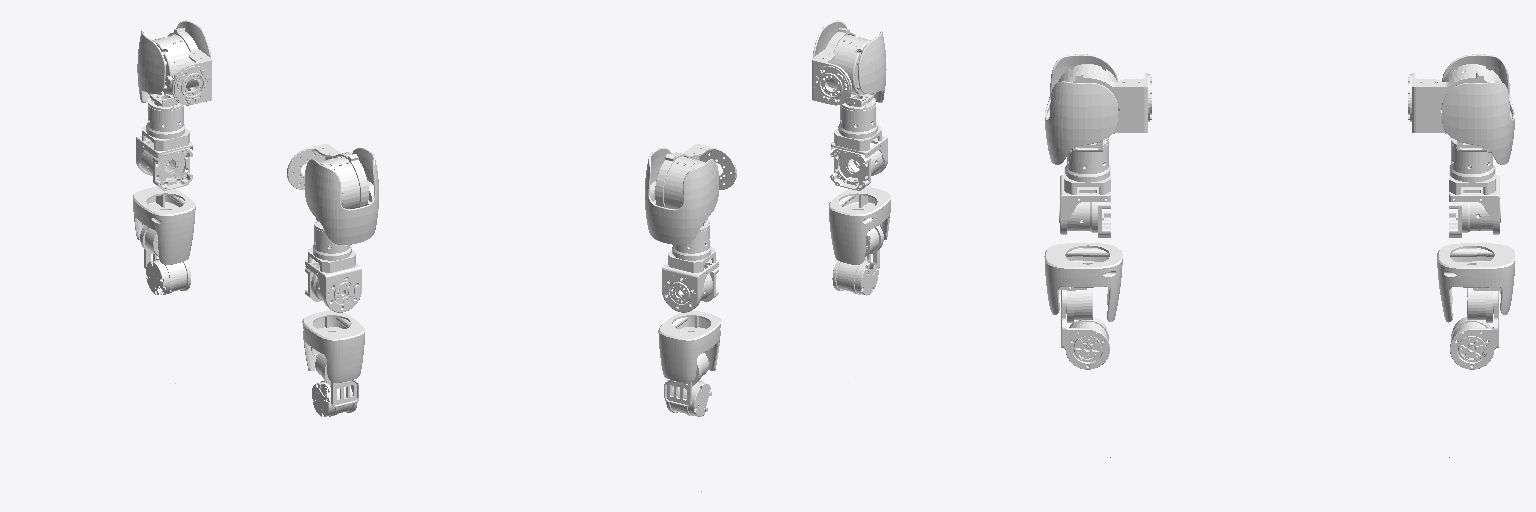
robot.urdf — biped_s40:
<?xml version="1.0" encoding="utf-8" ?>
<!-- This URDF was automatically created by SolidWorks to URDF Exporter! Originally created by [author] ([email redacted]) 
     Commit Version: 1.6.0-4-g7f85cfe  Build Version: 1.6.7995.38578
     For more information, please see http://wiki.ros.org/sw_urdf_exporter -->
<robot name="biped_s40">

    <link name="torso">
      <inertial>
          <origin xyz="0 0 0" rpy="0 0 0" />
          <mass value="0" />
          <inertia ixx="0" ixy="0" ixz="0" iyy="0" iyz="0" izz="0" />
      </inertial>
    </link>
    <joint name="torso" type="fixed">
      <parent link="torso" />
      <child link="base_link" />
      <origin xyz="0 0 0" rpy="0 0 0" />
    </joint>

    <link name="base_link">
        <inertial>
            <origin xyz="-0.0131642143292668 -0.00101855461920045 0.120968817067497" rpy="0 0 0" />
            <mass value="17.7538790248349" />
            <inertia ixx="0.109513413578877" ixy="-3.84263402967609E-06" ixz="0.002072229236261" iyy="0.0639718644540955" iyz="5.94596039793819E-06" izz="0.0796086142464887" />
        </inertial>
        <visual>
            <origin xyz="0 0 0" rpy="0 0 0" />
            <geometry>
                <mesh filename="package://biped_s40/meshes/torso.obj" />
            </geometry>
            <material name="">
                <color rgba="1 1 1 1" />
            </material>
        </visual>
        <collision>
            <origin xyz="0 0 0" rpy="0 0 0" />
            <geometry>
                <mesh filename="package://biped_s40/meshes/torso.obj" />
            </geometry>
        </collision>
    </link>

    <!-- 左手--> 
    <link name="zarm_l1_link">
        <inertial>
            <origin xyz="0.0146835191418715 -0.0166604103758634 -6.82857133369463E-05" rpy="0 0 0" />
            <mass value="0.165847319965906" />
            <inertia ixx="0.0002674432873971" ixy="-2.5654089149164E-05" ixz="-1.72966133127557E-07" iyy="0.000125796784291983" iyz="-1.66717296343014E-06" izz="0.000196186976742156" />
        </inertial>
        <visual>
            <origin xyz="0 0 0" rpy="0 0 0" />
            <geometry>
                <mesh filename="package://biped_s40/meshes/l_arm_pitch.obj" />
            </geometry>
            <material name="">
                <color rgba="1 1 1 1" />
            </material>
        </visual>
        <collision>
            <origin xyz="0 0 0" rpy="0 0 0" />
            <geometry>
                <mesh filename="package://biped_s40/meshes/l_arm_pitch.obj" />
            </geometry>
        </collision>
    </link>
    <joint name="zarm_l1_joint" type="revolute">
        <origin xyz="-0.0175475823124921 0.254700000000031 0.324500000000024" rpy="0 0 0" />
        <parent link="base_link" />
        <child link="zarm_l1_link" />
        <axis xyz="0 1 0" />
        <limit velocity="1" effort="20" lower="-3.14159"  upper="0.523599" /> 
    </joint>

    <link name="zarm_l2_link">
        <inertial>
            <origin xyz="0.0222872651779294 0.0156945544195443 -0.0202262244341467" rpy="0 0 0" />
            <mass value="0.14142658141305" />
            <inertia ixx="0.000160370067223078" ixy="6.30811840859276E-06" ixz="-1.13259246453472E-05" iyy="0.000262365778589952" iyz="3.14941259087025E-05" izz="0.000236014036281963" />
        </inertial>
        <visual>
            <origin xyz="0 0 0" rpy="0 0 0" />
            <geometry>
                <mesh filename="package://biped_s40/meshes/l_arm_roll.obj" />
            </geometry>
            <material name="">
                <color rgba="1 1 1 1" />
            </material>
        </visual>
        <collision>
            <origin xyz="0 0 0" rpy="0 0 0" />
            <geometry>
                <mesh filename="package://biped_s40/meshes/l_arm_roll.obj" />
            </geometry>
        </collision>
    </link>
    <joint name="zarm_l2_joint" type="revolute">
        <origin xyz="0 0 0" rpy="0 0 0" />
        <parent link="zarm_l1_link" />
        <child link="zarm_l2_link" />
        <axis xyz="1 0 0" />
        <limit velocity="1" effort="20" lower="-0.349066" upper="2.0944" /> 
    </joint>

    <link name="zarm_l3_link">
        <inertial>
            <origin xyz="6.16940440653045E-05 0.00525815062787316 -0.12882194485465" rpy="0 0 0" />
            <mass value="0.147794102819133" />
            <inertia ixx="7.00575957554695E-05" ixy="-6.81658230071221E-10" ixz="2.6942707856767E-10" iyy="8.53612265336774E-05" iyz="6.95899873075697E-06" izz="8.82223899453282E-05" />
        </inertial>
        <visual>
            <origin xyz="0 0 0" rpy="0 0 0" />
            <geometry>
                <mesh filename="package://biped_s40/meshes/l_arm_yaw.obj" />
            </geometry>
            <material name="">
                <color rgba="1 1 1 1" />
            </material>
        </visual>
        <collision>
            <origin xyz="0 0 0" rpy="0 0 0" />
            <geometry>
                <mesh filename="package://biped_s40/meshes/l_arm_yaw.obj" />
            </geometry>
        </collision>
    </link>
    <joint name="zarm_l3_joint" type="revolute">
        <origin xyz="0 0 0" rpy="0 0 0" />
        <parent link="zarm_l2_link" />
        <child link="zarm_l3_link" />
        <axis xyz="0 0 1" />
        <limit velocity="1" effort="20" lower="-1.5708" upper="1.5708" />
    </joint>

    <link name="zarm_l4_link">
        <inertial>
            <origin xyz="-1.42819297162602E-05 0.00938313949963104 -0.0522687552263907" rpy="0 0 0" />
            <mass value="0.170164726102014" />
            <inertia ixx="9.55808447606964E-05" ixy="-4.53863489155473E-08" ixz="5.39342118114986E-08" iyy="0.000126326373178401" iyz="-9.58160032696802E-06" izz="0.000121032474884244" />
        </inertial>
        <visual>
            <origin xyz="0 0 0" rpy="0 0 0" />
            <geometry>
                <mesh filename="package://biped_s40/meshes/l_forearm_pitch.obj" />
            </geometry>
            <material name="">
                <color rgba="1 1 1 1" />
            </material>
        </visual>
        <collision>
            <origin xyz="0 0 0" rpy="0 0 0" />
            <geometry>
                <mesh filename="package://biped_s40/meshes/l_forearm_pitch.obj" />
            </geometry>
        </collision>
    </link>
    <joint name="zarm_l4_joint" type="revolute">
        <origin xyz="0 0 -0.163599999999996" rpy="0 0 0" />
        <parent link="zarm_l3_link" />
        <child link="zarm_l4_link" />
        <axis xyz="0 1 0" />
        <limit velocity="1" effort="20" lower="-1.5708" upper="0" /> 
    </joint>

    <link name="zarm_l5_link">
        <inertial>
            <origin xyz="0.000113131262875685 0.00969728110559553 0.0227960708688583" rpy="0 0 0" />
            <mass value="0.157336277379834" />
            <inertia ixx="7.64923971357921E-05" ixy="8.51207618055666E-09" ixz="-1.40676645868301E-08" iyy="0.000122231121933325" iyz="1.11226992393513E-06" izz="8.44934959384744E-05" />
        </inertial>
        <visual>
            <origin xyz="0 0 0" rpy="0 0 0" />
            <geometry>
                <mesh filename="package://biped_s40/meshes/l_hand_yaw.obj" />
            </geometry>
            <material name="">
                <color rgba="1 1 1 1" />
            </material>
        </visual>
        <collision>
            <origin xyz="0 0 0" rpy="0 0 0" />
            <geometry>
                <mesh filename="package://biped_s40/meshes/l_hand_yaw.obj" />
            </geometry>
        </collision>
    </link>
    <joint name="zarm_l5_joint" type="revolute">
        <origin xyz="0 0 -0.132050000118071" rpy="0 0 0" />
        <parent link="zarm_l4_link" />
        <child link="zarm_l5_link" />
        <limit velocity="1" effort="20" lower="-1.5708" upper="1.5708" />
        <axis xyz="0 0 1" />
    </joint>

    <link name="zarm_l6_link">
        <inertial>
            <origin xyz="0.00810609772930763 0.00490163171050539 -0.0527751110917489" rpy="0 0 0" />
            <mass value="0.0853891779246004" />
            <inertia ixx="4.77321490368476E-05" ixy="3.05261917457108E-06" ixz="4.77827164947653E-06" iyy="3.43814769749137E-05" iyz="-4.59311499587152E-06" izz="2.49955336560133E-05" />
        </inertial>
        <visual>
            <origin xyz="0 0 0" rpy="0 0 0" />
            <geometry>
                <mesh filename="package://biped_s40/meshes/l_hand_pitch.obj" />
            </geometry>
            <material name="">
                <color rgba="1 1 1 1" />
            </material>
        </visual>
        <collision>
            <origin xyz="0 0 0" rpy="0 0 0" />
            <geometry>
                <mesh filename="package://biped_s40/meshes/l_hand_pitch.obj" />
            </geometry>
        </collision>
    </link>
    <joint name="zarm_l6_joint" type="revolute">
        <origin xyz="0 0 0" rpy="0 0 0" />
        <parent link="zarm_l5_link" />
        <child link="zarm_l6_link" />
        <axis xyz="0 1 0" />
        <limit velocity="1" effort="20" lower="-1.5708" upper="1.5708" /> 
    </joint>

    <link name="zarm_l7_link">
        <inertial>
            <origin xyz="0.00396050555698803 0.00946265387749012 -0.066602176591173" rpy="0 0 0" />
            <mass value="0.151352919071109" />
            <inertia ixx="9.13246737942629E-05" ixy="3.25649345932988E-07" ixz="-4.78728976781085E-06" iyy="0.000139866613946359" iyz="1.1925397914412E-05" izz="0.000125082116428502" />
        </inertial>
        <visual>
            <origin xyz="0 0 0" rpy="0 0 0" />
            <geometry>
                <mesh filename="package://biped_s40/meshes/new_l_hand_roll.obj" />
            </geometry>
            <material name="">
                <color rgba="1 1 1 1" />
            </material>
        </visual>
        <collision>
            <origin xyz="0 0 0" rpy="0 0 0" />
            <geometry>
                <mesh filename="package://biped_s40/meshes/new_l_hand_roll.obj" />
            </geometry>
        </collision>
    </link>
    <joint name="zarm_l7_joint" type="revolute">
        <origin xyz="0 0 -0.058999997180792" rpy="0 0 0" />
        <parent link="zarm_l6_link" />
        <child link="zarm_l7_link" />
        <axis xyz="1 0 0" />
        <limit velocity="1" effort="20" lower="-1.5708" upper="1.5708" />
    </joint>

    <link name="zarm_l7_end_effector">
        <visual>
            <origin xyz="0 0 0" rpy="0 0 0" />
            <geometry>
                <sphere radius="0.001"/>
            </geometry>
            <material name="">
                <color rgba="1 1 1 1" />
            </material>
        </visual>
    </link>
    <joint name="zarm_l7_joint_end_effector" type="fixed">
        <origin xyz="0.00 -0.03 -0.17" rpy="0 0 0" />
        <parent link="zarm_l7_link" />
        <child link="zarm_l7_end_effector" />
    </joint>
    
    <!-- 右手--> 
    <link name="zarm_r1_link">
        <inertial>
            <origin xyz="0.0146743511434554 0.016829800822405 -8.16711977455475E-05" rpy="0 0 0" />
            <mass value="0.165729466195453" />
            <inertia ixx="0.000267364314112701" ixy="2.58822573731612E-05" ixz="-1.74450019197639E-07" iyy="0.000125724274127356" iyz="1.71810516637517E-06" izz="0.000196179895851995" />
        </inertial>
        <visual>
            <origin xyz="0 0 0" rpy="0 0 0" />
            <geometry>
                <mesh filename="package://biped_s40/meshes/r_arm_pitch.obj" />
            </geometry>
            <material name="">
                <color rgba="1 1 1 1" />
            </material>
        </visual>
        <collision>
            <origin xyz="0 0 0" rpy="0 0 0" />
            <geometry>
                <mesh filename="package://biped_s40/meshes/r_arm_pitch.obj" />
            </geometry>
        </collision>
    </link>
    <joint name="zarm_r1_joint" type="revolute">
        <origin xyz="-0.0175475823119764 -0.254700000000003 0.324500000000024" rpy="0 0 0" />
        <parent link="base_link" />
        <child link="zarm_r1_link" />
        <axis xyz="0 1 0" />
        <limit velocity="1" effort="20" lower="-3.14159" upper="0.523599" /> 
    </joint>

    <link name="zarm_r2_link">
        <inertial>
            <origin xyz="0.0223009070371899 -0.0156950170222252 -0.0202307747728591" rpy="0 0 0" />
            <mass value="0.141493827146865" />
            <inertia ixx="0.000160588534065391" ixy="-6.25733640993197E-06" ixz="-1.13236198591127E-05" iyy="0.000262566981459999" iyz="-3.1493041488675E-05" izz="0.000236151535090871" />
        </inertial>
        <visual>
            <origin xyz="0 0 0" rpy="0 0 0" />
            <geometry>
                <mesh filename="package://biped_s40/meshes/r_arm_roll.obj" />
            </geometry>
            <material name="">
                <color rgba="1 1 1 1" />
            </material>
        </visual>
        <collision>
            <origin xyz="0 0 0" rpy="0 0 0" />
            <geometry>
                <mesh filename="package://biped_s40/meshes/r_arm_roll.obj" />
            </geometry>
        </collision>
    </link>
    <joint name="zarm_r2_joint" type="revolute">
        <origin xyz="0 0 0" rpy="0 0 0" />
        <parent link="zarm_r1_link" />
        <child link="zarm_r2_link" />
        <axis xyz="1 0 0" />
        <limit velocity="1" effort="20" lower="-2.0944" upper="0.349066" />
    </joint>

    <link name="zarm_r3_link">
        <inertial>
            <origin xyz="-4.82749435399069E-05 -0.00525815062783946 -0.128821944854617" rpy="0 0 0" />
            <mass value="0.147794102819133" />
            <inertia ixx="7.005759575547E-05" ixy="-6.81658260959138E-10" ixz="-2.69427064536621E-10" iyy="8.53612265336777E-05" iyz="-6.95899873075701E-06" izz="8.82223899453284E-05" />
        </inertial>
        <visual>
            <origin xyz="0 0 0" rpy="0 0 0" />
            <geometry>
                <mesh filename="package://biped_s40/meshes/r_arm_yaw.obj" />
            </geometry>
            <material name="">
                <color rgba="1 1 1 1" />
            </material>
        </visual>
        <collision>
            <origin xyz="0 0 0" rpy="0 0 0" />
            <geometry>
                <mesh filename="package://biped_s40/meshes/r_arm_yaw.obj" />
            </geometry>
        </collision>
    </link>
    <joint name="zarm_r3_joint" type="revolute">
        <origin xyz="0 0 0" rpy="0 0 0" />
        <parent link="zarm_r2_link" />
        <child link="zarm_r3_link" />
        <axis xyz="0 0 1" />
        <limit velocity="1" effort="20" lower="-1.5708" upper="1.5708" /> 
    </joint>

    <link name="zarm_r4_link">
        <inertial>
            <origin xyz="-0.000127232990745296 -0.00951602649232614 -0.052268755226349" rpy="0 0 0" />
            <mass value="0.17016472610201" />
            <inertia ixx="9.55808447606902E-05" ixy="-4.53863489771543E-08" ixz="-5.41060583435907E-08" iyy="0.000126326373178393" iyz="9.40982665987161E-06" izz="0.000121032474884238" />
        </inertial>
        <visual>
            <origin xyz="0 0 0" rpy="0 0 0" />
            <geometry>
                <mesh filename="package://biped_s40/meshes/r_forearm_pitch.obj" />
            </geometry>
            <material name="">
                <color rgba="1 1 1 1" />
            </material>
        </visual>
        <collision>
            <origin xyz="0 0 0" rpy="0 0 0" />
            <geometry>
                <mesh filename="package://biped_s40/meshes/r_forearm_pitch.obj" />
            </geometry>
        </collision>
    </link>
    <joint name="zarm_r4_joint" type="revolute">
        <origin xyz="0 0 -0.1636" rpy="0 0 0" />
        <parent link="zarm_r3_link" />
        <child link="zarm_r4_link" />
        <axis xyz="0 1 0" />
        <limit velocity="1" effort="20" lower="-1.5708" upper="0" /> 
    </joint>

    <link name="zarm_r5_link">
        <inertial>
            <origin xyz="-0.000112955483967687 -0.00974449526683929 0.0227958280839014" rpy="0 0 0" />
            <mass value="0.157334748658065" />
            <inertia ixx="7.64922331363792E-05" ixy="8.75195261100849E-09" ixz="1.38703019538351E-08" iyy="0.000122230542206117" iyz="-1.1123944412365E-06" izz="8.44929064837534E-05" />
        </inertial>
        <visual>
            <origin xyz="0 0 0" rpy="0 0 0" />
            <geometry>
                <mesh filename="package://biped_s40/meshes/r_hand_yaw.obj" />
            </geometry>
            <material name="">
                <color rgba="1 1 1 1" />
            </material>
        </visual>
        <collision>
            <origin xyz="0 0 0" rpy="0 0 0" />
            <geometry>
                <mesh filename="package://biped_s40/meshes/r_hand_yaw.obj" />
            </geometry>
        </collision>
    </link>
    <joint name="zarm_r5_joint" type="revolute">
        <origin xyz="0 0 -0.132050000118069" rpy="0 0 0" />
        <parent link="zarm_r4_link" />
        <child link="zarm_r5_link" />
        <limit velocity="1" effort="20" lower="-1.5708" upper="1.5708" />
        <axis xyz="0 0 1" />
    </joint>

    <link name="zarm_r6_link">
        <inertial>
            <origin xyz="0.00735986990228201 -0.00475238307648407 -0.0529411193942666" rpy="0 0 0" />
            <mass value="0.0853891534309893" />
            <inertia ixx="4.77321358097823E-05" ixy="-2.99709432812987E-06" ixz="4.71488437974189E-06" iyy="3.42470226388499E-05" iyz="4.61094199971348E-06" izz="2.51299600072389E-05" />
        </inertial>
        <visual>
            <origin xyz="0 0 0" rpy="0 0 0" />
            <geometry>
                <mesh filename="package://biped_s40/meshes/r_hand_pitch.obj" />
            </geometry>
            <material name="">
                <color rgba="1 1 1 1" />
            </material>
        </visual>
        <collision>
            <origin xyz="0 0 0" rpy="0 0 0" />
            <geometry>
                <mesh filename="package://biped_s40/meshes/r_hand_pitch.obj" />
            </geometry>
        </collision>
    </link>
    <joint name="zarm_r6_joint" type="revolute">
        <origin xyz="0 0 0" rpy="0 0 0" />
        <parent link="zarm_r5_link" />
        <child link="zarm_r6_link" />
        <axis xyz="0 1 0" />
        <limit velocity="1" effort="20" lower="-1.5708" upper="1.5708" />
    </joint>

    <link name="zarm_r7_link">
        <inertial>
            <origin xyz="0.00300067727381764 -0.00948299721849261 -0.0665274119439575" rpy="0 0 0" />
            <mass value="0.151513451672293" />
            <inertia ixx="9.14013694279149E-05" ixy="-3.00635383669835E-07" ixz="-4.88449841632957E-06" iyy="0.000140002484811824" iyz="-1.18898278478315E-05" izz="0.000125153253041102" />
        </inertial>
        <visual>
            <origin xyz="0 0 0" rpy="0 0 0" />
            <geometry>
                <mesh filename="package://biped_s40/meshes/new_r_hand_roll.obj" />
            </geometry>
            <material name="">
                <color rgba="1 1 1 1" />
            </material>
        </visual>
        <collision>
            <origin xyz="0 0 0" rpy="0 0 0" />
            <geometry>
                <mesh filename="package://biped_s40/meshes/new_r_hand_roll.obj" />
            </geometry>
        </collision>
    </link>
    <joint name="zarm_r7_joint" type="revolute">
        <origin xyz="0 0 -0.0590000000076598" rpy="0 0 0" />
        <parent link="zarm_r6_link" />
        <child link="zarm_r7_link" />
        <axis xyz="1 0 0" />
        <limit velocity="1" effort="20" lower="-1.5708" upper="1.5708" />
    </joint>

    <link name="zarm_r7_end_effector">
        <visual>
            <origin xyz="0 0 0" rpy="0 0 0" />
            <geometry>
                <sphere radius="0.001"/>
            </geometry>
            <material name="">
                <color rgba="1 1 1 1" />
            </material>
        </visual>
    </link>
    <joint name="zarm_r7_joint_end_effector" type="fixed">
        <origin xyz="0.00 0.03 -0.17" rpy="0 0 0" />
        <parent link="zarm_r7_link" />
        <child link="zarm_r7_end_effector" />
    </joint>

</robot>

--- Facts derived from the render (not from the file) ---
The picture shows the robot from 3 angles, left to right: view 1: azimuth 30°, elevation 25°; view 2: azimuth 150°, elevation 25°; view 3: azimuth 270°, elevation 25°; orthographic projection.
Robot: biped_s40 — 18 links, 17 joints (14 revolute, 3 fixed); root link torso; default pose: every joint at zero.
Visible links, largest first — view 1: zarm_r2_link, zarm_l5_link, zarm_l3_link, zarm_r5_link, zarm_r3_link, zarm_l1_link, zarm_r1_link, zarm_l2_link, zarm_r6_link, zarm_l6_link; view 2: zarm_l2_link, zarm_r5_link, zarm_r3_link, zarm_l5_link, zarm_l3_link, zarm_r1_link, zarm_l1_link, zarm_r2_link, zarm_r6_link, zarm_l6_link; view 3: zarm_r2_link, zarm_l2_link, zarm_l5_link, zarm_r5_link, zarm_l3_link, zarm_r3_link, zarm_l1_link, zarm_r1_link, zarm_r6_link, zarm_l6_link.
Link boxes in pixels (x1,y1,x2,y2): zarm_r2_link: [304, 148, 378, 244]; zarm_l5_link: [133, 187, 195, 264]; zarm_l3_link: [136, 98, 192, 190]; zarm_r5_link: [302, 311, 364, 384]; zarm_r3_link: [305, 220, 361, 312]; zarm_l1_link: [152, 28, 211, 105]; zarm_r1_link: [287, 144, 368, 208]; zarm_l2_link: [137, 20, 210, 106]; zarm_r6_link: [312, 380, 358, 416]; zarm_l6_link: [144, 249, 190, 294]; zarm_l2_link: [645, 148, 718, 244]; zarm_r5_link: [829, 187, 890, 264]; zarm_r3_link: [830, 98, 887, 190]; zarm_l5_link: [658, 311, 720, 385]; zarm_l3_link: [662, 220, 718, 312]; zarm_r1_link: [812, 28, 871, 105]; zarm_l1_link: [655, 144, 736, 208]; zarm_r2_link: [813, 20, 886, 106]; zarm_r6_link: [832, 249, 879, 295]; zarm_l6_link: [664, 380, 711, 416]; zarm_r2_link: [1045, 54, 1117, 164]; zarm_l2_link: [1442, 54, 1514, 164]; zarm_l5_link: [1437, 243, 1515, 322]; zarm_r5_link: [1044, 243, 1122, 322]; zarm_l3_link: [1449, 138, 1500, 237]; zarm_r3_link: [1059, 138, 1110, 237]; zarm_l1_link: [1408, 64, 1501, 133]; zarm_r1_link: [1058, 64, 1151, 133]; zarm_r6_link: [1061, 290, 1109, 369]; zarm_l6_link: [1450, 291, 1498, 369].
Size in the robot's own frame: 0.1088 by 0.6244 by 0.5772 metres.
Meshes: 15 distinct files referenced, 10 mesh visuals loaded (10 OBJ); not drawn: 5 (reference not matched to a file when rendering).
